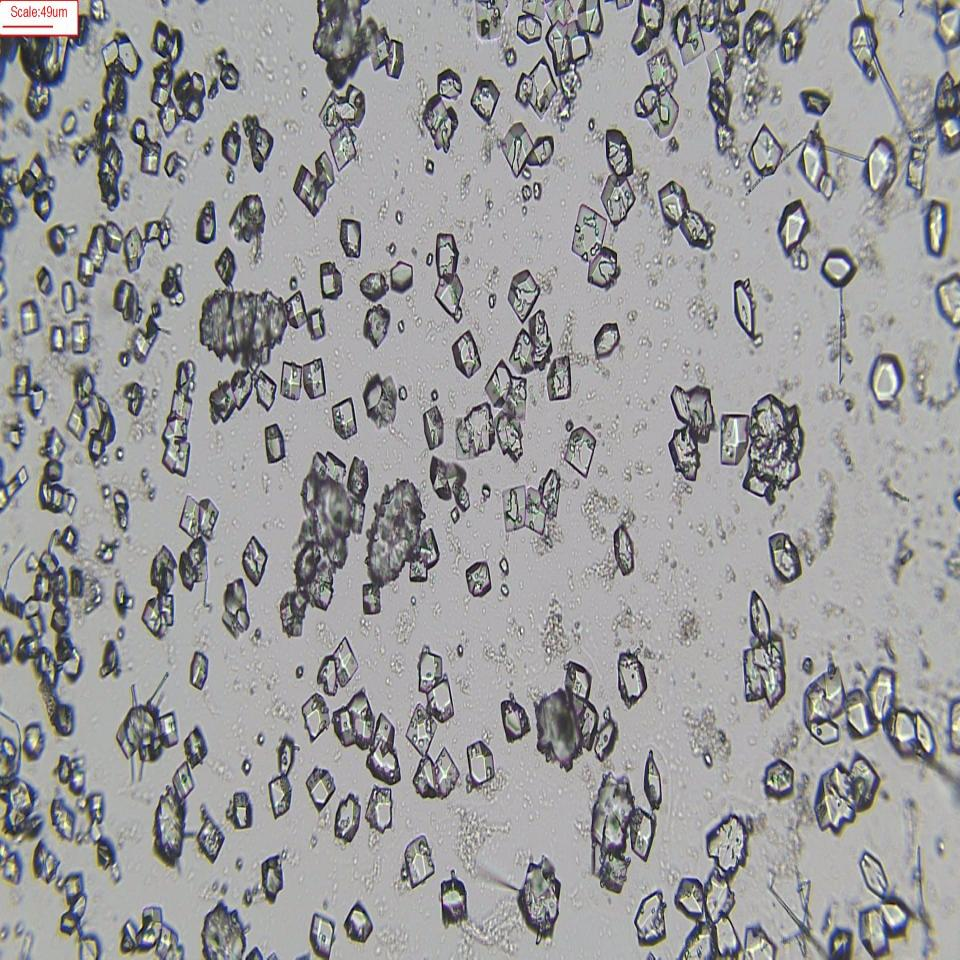crystal: (517, 860, 562, 932), (706, 812, 748, 878), (201, 899, 246, 960), (152, 782, 184, 866), (746, 640, 787, 704), (718, 409, 752, 472), (570, 203, 604, 263), (869, 350, 903, 409), (748, 122, 784, 177), (670, 426, 704, 484), (729, 279, 760, 341), (613, 649, 646, 707), (855, 903, 888, 960), (866, 136, 897, 196), (601, 171, 634, 227), (633, 891, 666, 946), (500, 121, 532, 177), (776, 201, 811, 252), (438, 876, 472, 928), (846, 14, 877, 71), (402, 835, 434, 890), (463, 402, 495, 457), (497, 480, 529, 535), (563, 425, 596, 478), (843, 686, 876, 739), (507, 268, 539, 322), (363, 380, 397, 430), (768, 532, 801, 583), (745, 585, 774, 642), (628, 803, 657, 859), (860, 850, 892, 899), (405, 704, 437, 752), (466, 738, 497, 787), (358, 573, 386, 627), (657, 174, 687, 224), (936, 272, 960, 334), (586, 249, 623, 289), (800, 130, 825, 189), (333, 792, 361, 844), (364, 783, 393, 833), (451, 330, 481, 378), (434, 274, 464, 322), (432, 746, 460, 797), (820, 251, 857, 289), (301, 692, 329, 742), (612, 519, 637, 575), (292, 164, 320, 214), (414, 650, 447, 692), (427, 675, 455, 724), (500, 694, 528, 743), (305, 765, 334, 812), (432, 230, 459, 280), (331, 636, 358, 686), (485, 360, 513, 408), (242, 535, 268, 586), (926, 200, 950, 255), (470, 75, 498, 122), (309, 912, 336, 960), (564, 660, 592, 706), (646, 47, 675, 91), (331, 396, 357, 445), (642, 754, 666, 807), (344, 900, 372, 945), (606, 127, 632, 175), (328, 126, 356, 170), (267, 772, 293, 819), (764, 758, 794, 798), (546, 355, 572, 401), (363, 304, 390, 348), (182, 725, 208, 769), (674, 873, 702, 913), (198, 818, 224, 861), (595, 716, 618, 764), (798, 84, 830, 118), (513, 11, 545, 45), (226, 791, 253, 831), (347, 455, 370, 501), (121, 226, 144, 272), (422, 404, 444, 452), (319, 260, 344, 302), (593, 322, 619, 362), (263, 423, 287, 466), (303, 358, 327, 400), (464, 560, 490, 598), (360, 270, 388, 305), (436, 66, 463, 102), (195, 200, 217, 244), (254, 368, 277, 410), (338, 217, 361, 258), (65, 402, 88, 442), (258, 855, 282, 893), (284, 288, 306, 329), (132, 326, 157, 362), (170, 761, 194, 798), (214, 244, 235, 286), (280, 360, 302, 400), (221, 122, 241, 166), (25, 721, 46, 761), (189, 650, 209, 691), (389, 258, 414, 290), (386, 39, 406, 79), (140, 140, 162, 176), (528, 138, 558, 164), (276, 736, 295, 777), (19, 300, 40, 336), (86, 424, 106, 461), (70, 318, 90, 354), (48, 224, 70, 256), (32, 191, 54, 223), (306, 307, 326, 342), (58, 279, 78, 314), (58, 111, 81, 139), (79, 252, 96, 288), (28, 385, 48, 414), (104, 220, 122, 252), (59, 908, 80, 934), (35, 266, 53, 294), (49, 325, 65, 354), (165, 149, 182, 175), (132, 120, 149, 144), (422, 156, 440, 178), (63, 525, 77, 553), (502, 44, 517, 68), (119, 350, 129, 368)
not_crystal: (286, 457, 349, 640), (370, 485, 421, 582), (198, 292, 276, 355), (593, 786, 630, 887), (818, 768, 876, 825), (98, 38, 128, 140), (548, 16, 592, 70), (166, 393, 192, 476), (228, 193, 266, 249), (148, 556, 174, 630), (206, 382, 251, 423), (173, 73, 206, 124), (338, 698, 374, 743), (222, 578, 249, 635), (428, 458, 462, 500)
